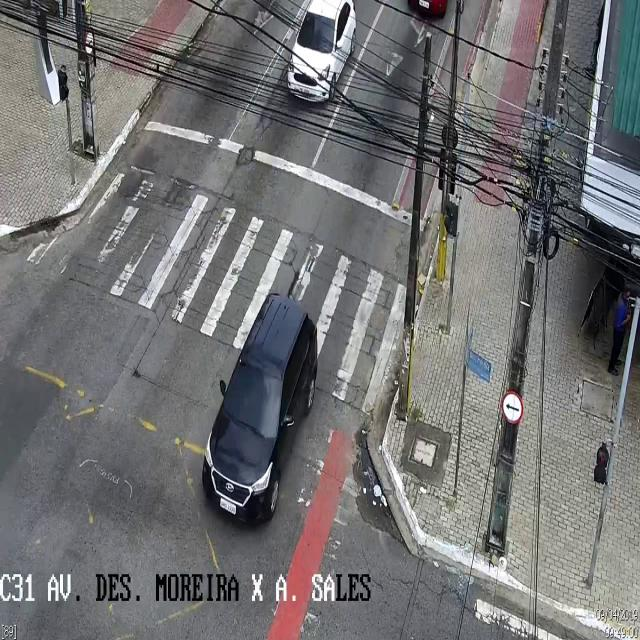Car: (204, 294, 318, 520), (288, 0, 362, 116)
